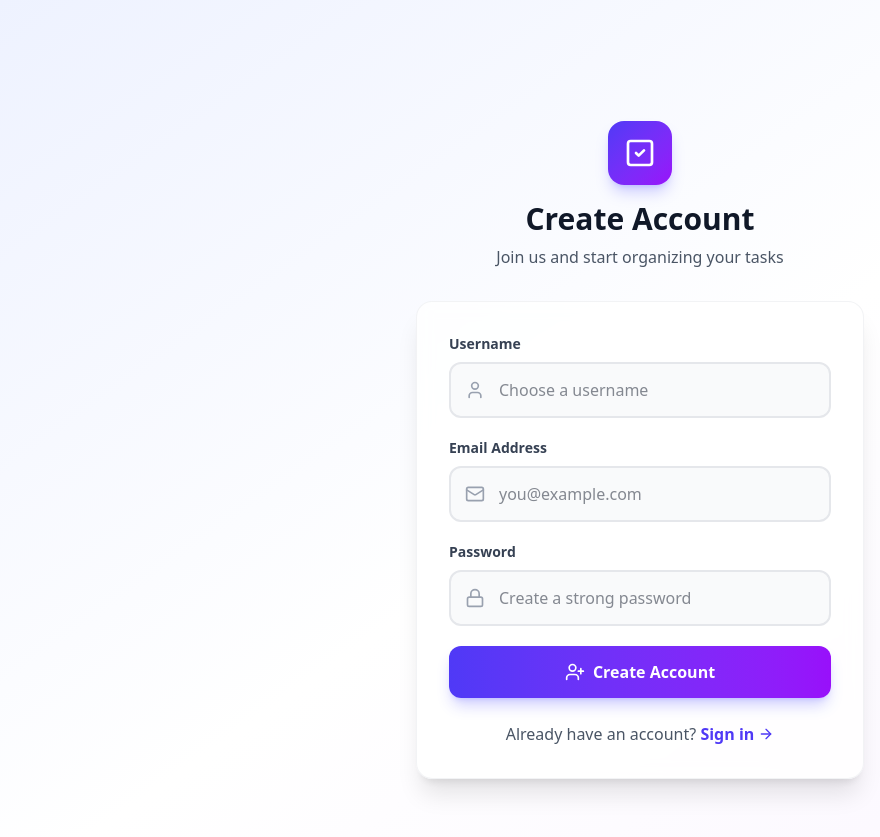
Test: SignUp Component › should show validation error for invalid username characters
The width and height of the screenshot is (880, 837).
Type "user@name" into the field with placeholder "Choose a username" at (640, 390), box [449,362,831,418]
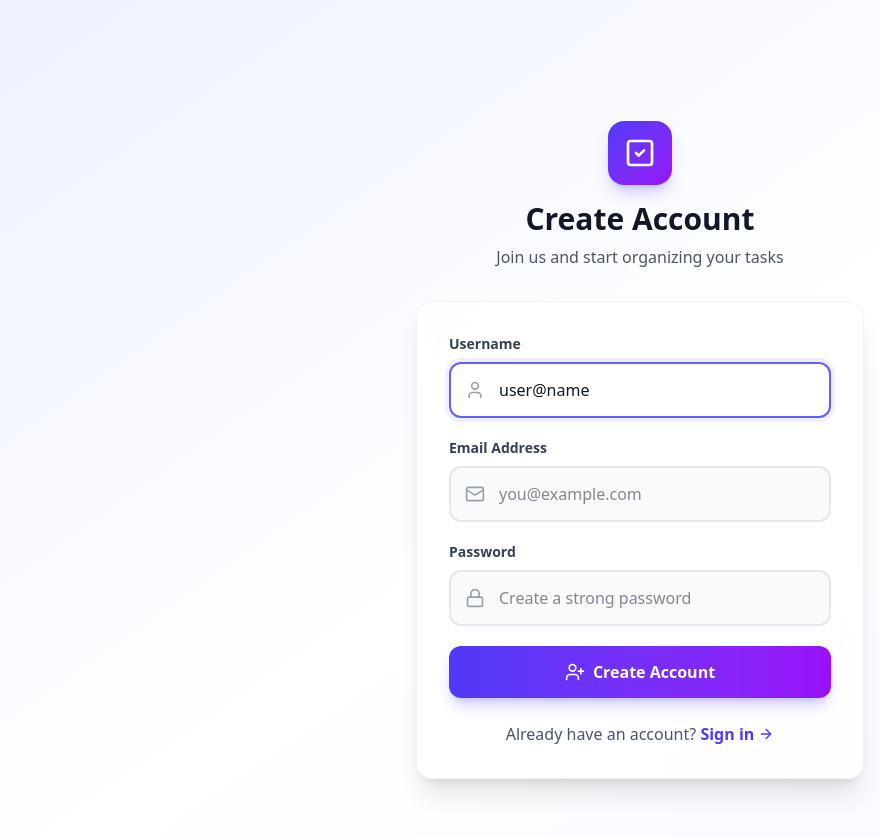
Type "test@example.com" into the field with placeholder "you@example.com" at (640, 494), box [449,466,831,522]
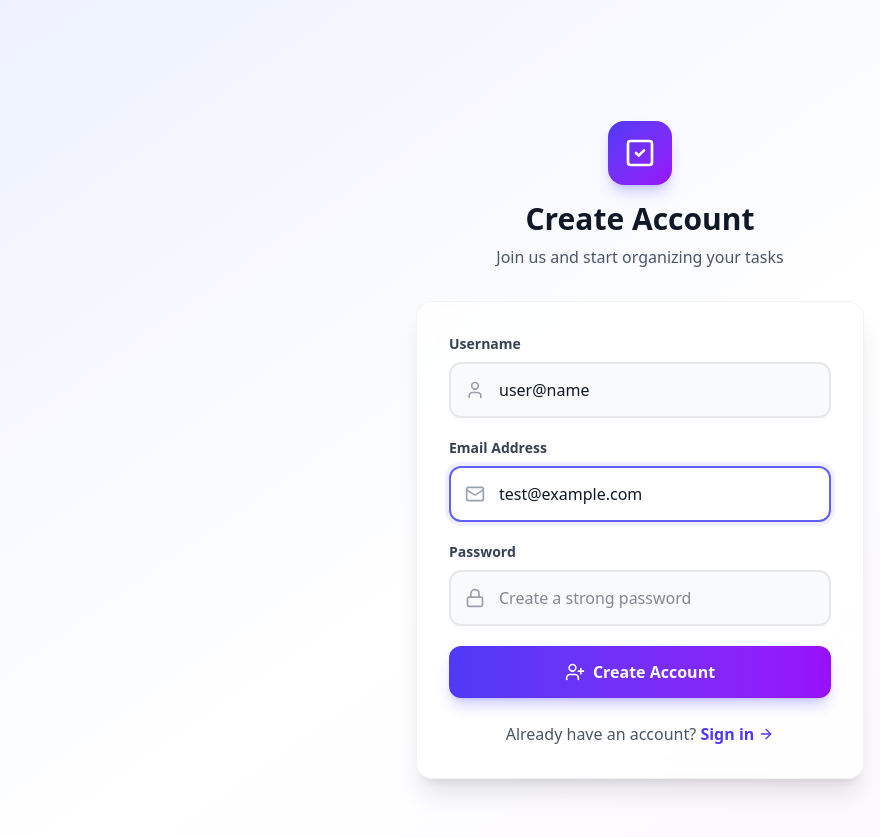
Type "password123" into the password field with placeholder "Create a strong password" at (640, 598), box [449,570,831,626]
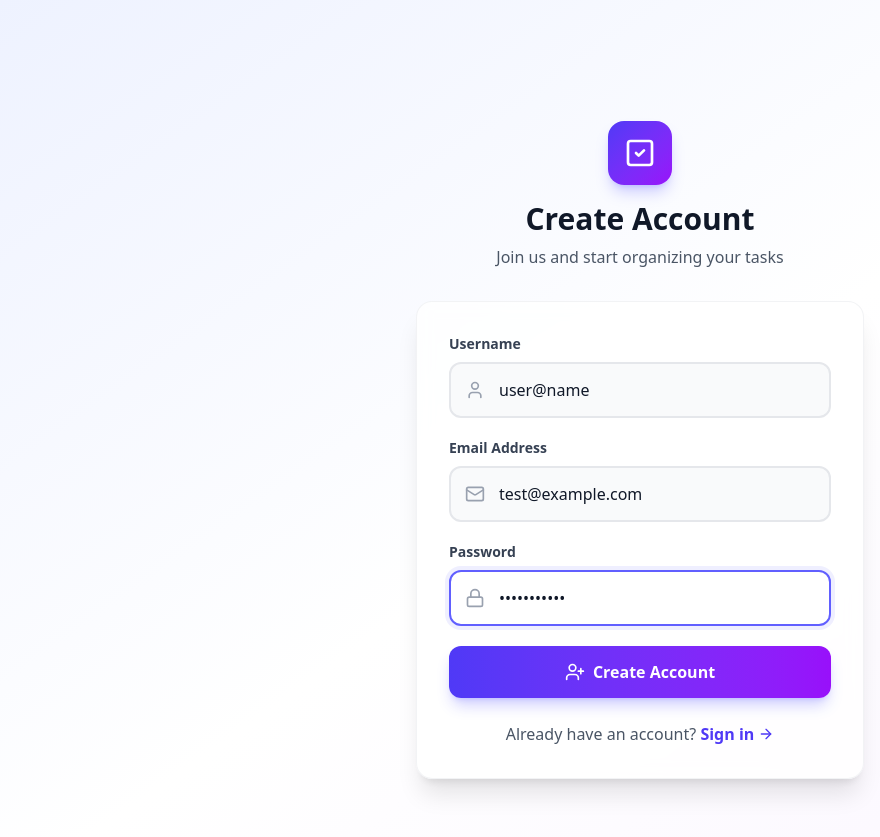
Click the button "Create Account" at (640, 672), box [449,646,831,698]
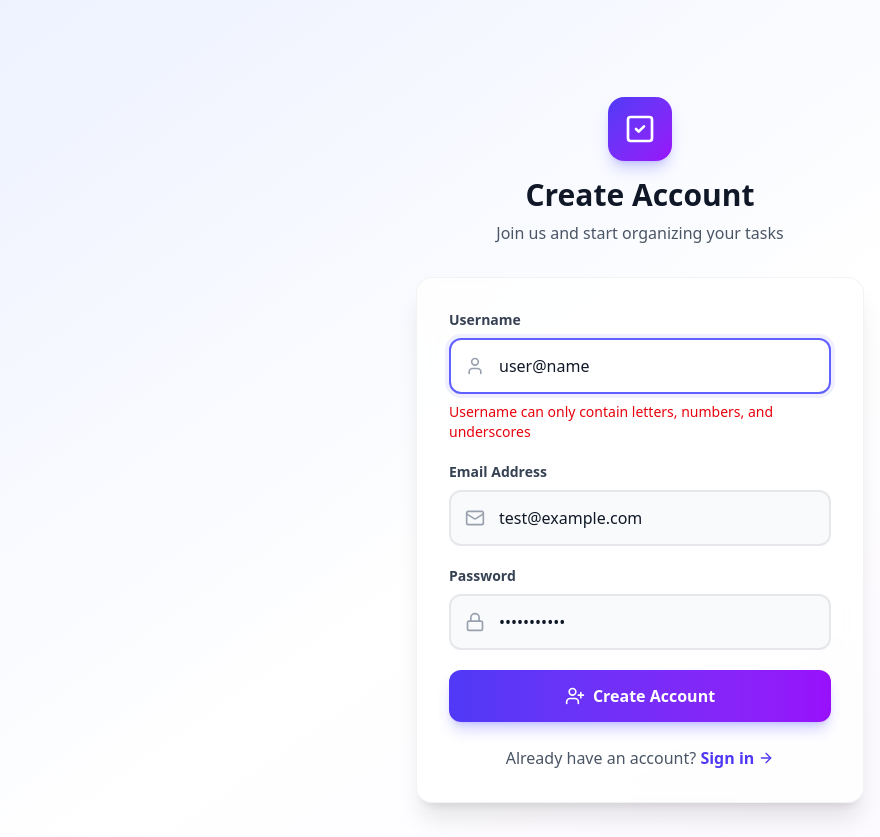
Result: the text "Username can only contain letters, numbers, and underscores" is shown at [449,402,773,441]
